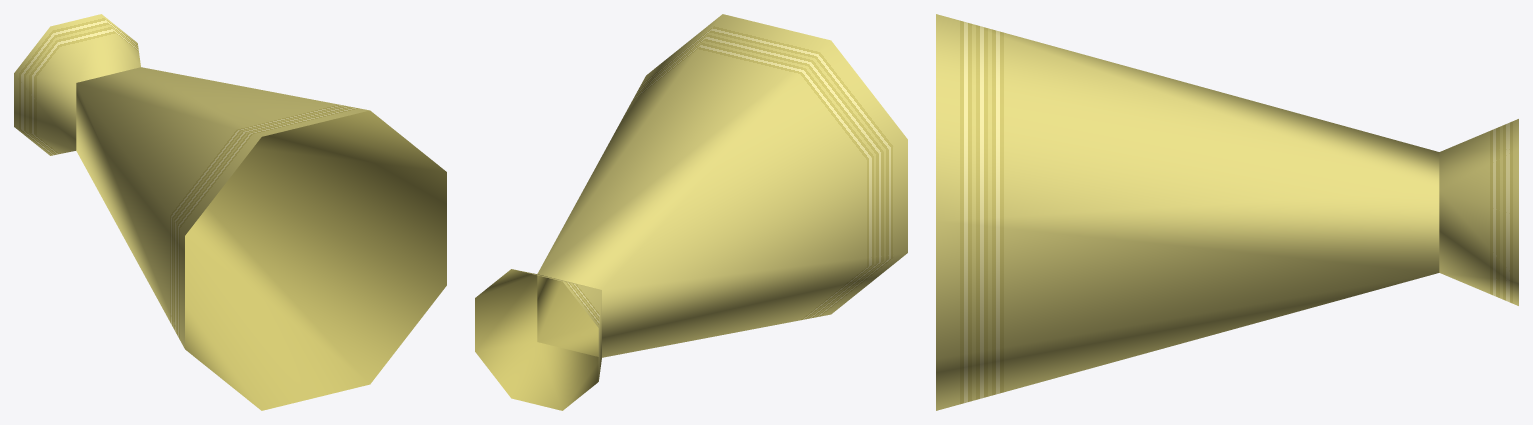
Rendered from 005f_Bullhorn.glb.
3 renders of one model, left to right at view 1: azimuth 30°, elevation 25°; view 2: azimuth 150°, elevation 25°; view 3: azimuth 270°, elevation 25°, orthographic. The views are drawn at different scales.
Visible parts, largest first — view 1: part_0; view 2: part_0; view 3: part_0.
Boxes of the visible parts, box(x1,y1,x2,y2) form: part_0: box(14, 14, 446, 410); part_0: box(475, 14, 907, 410); part_0: box(936, 14, 1518, 410).
Size of the model in its own units: 0.1386 by 0.1386 by 0.22.
1 material, 1 textured.
